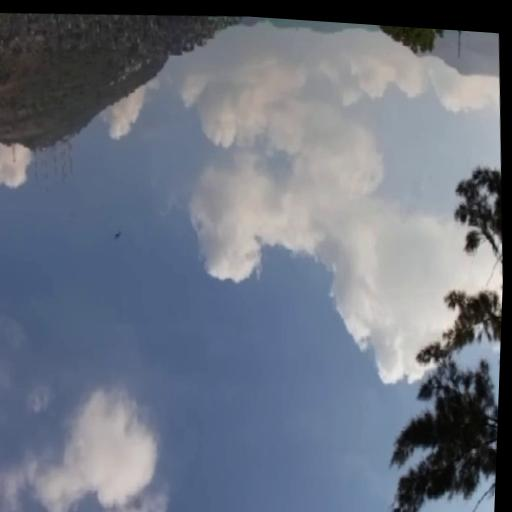drones: (109, 222, 127, 246)
